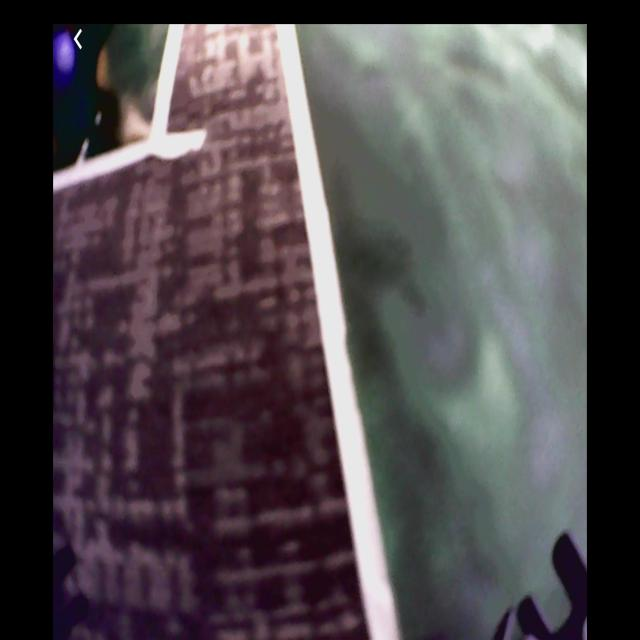ball: (54, 34, 83, 84)
